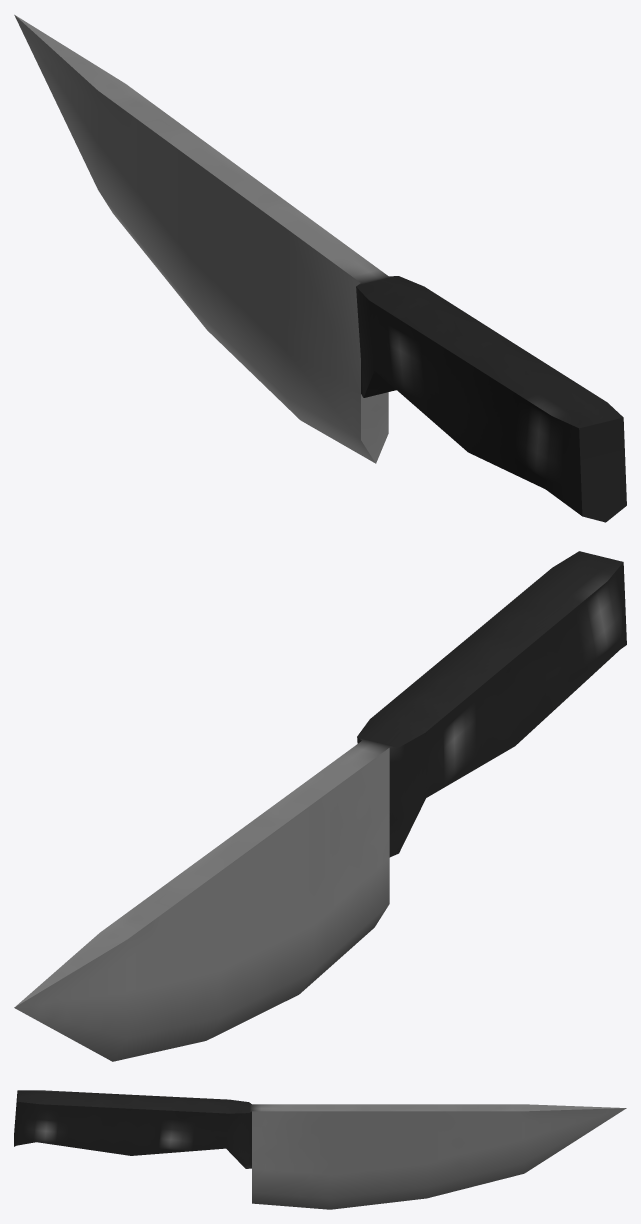
Rendered from PROP_054_Knife_B.fbx.
The picture shows the model from 3 angles, top to bottom: view 1: azimuth 30°, elevation 25°; view 2: azimuth 150°, elevation 25°; view 3: azimuth 270°, elevation 25°; orthographic projection. The views are drawn at different scales.
Visible parts, largest first — view 1: Cube_004; view 2: Cube_004; view 3: Cube_004.
Part boxes in pixels (<box>): Cube_004: <box>14,14,626,522</box>; Cube_004: <box>14,551,626,1061</box>; Cube_004: <box>14,1090,626,1209</box>.
Size of the model in its own units: 0.0306 by 0.0875 by 0.4192.
Materials: 1 (1 with a texture image).
